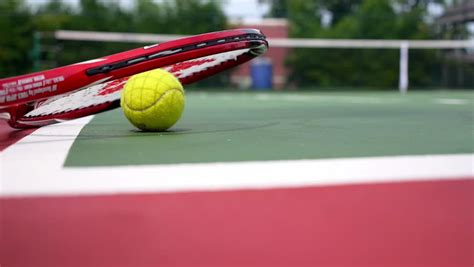tennis_ball: (120, 69, 185, 132)
